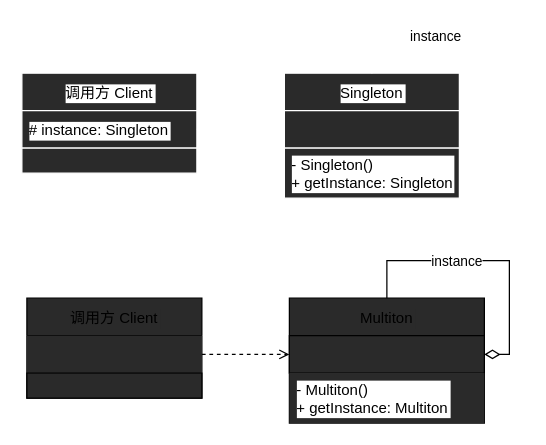
This 546x445 diagram has some shape labels left out. Each missing label, with the centre of its shape:
"# instance: Multiton" goes at pixel 113 353.
"- instance: Singleton" goes at pixel 371 128.
"- instanceList: Multiton[]" goes at pixel 386 353.
